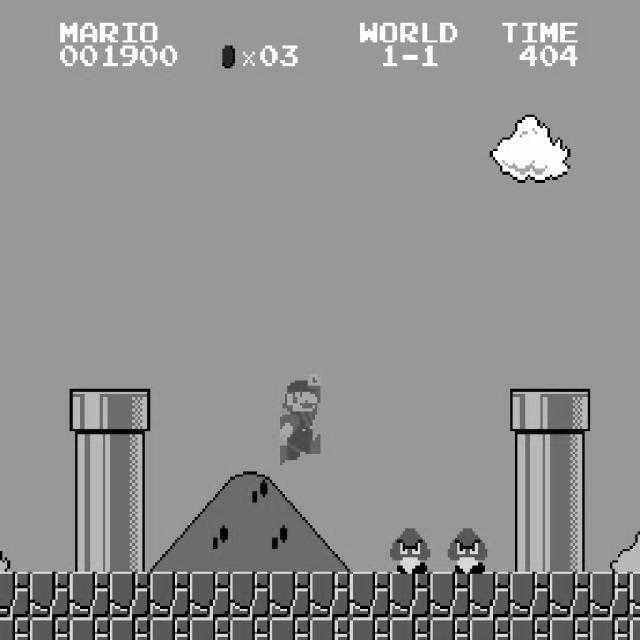0- big_mario: (277, 372, 320, 466)
14- pipe: (70, 434, 110, 480), (70, 480, 110, 526), (70, 526, 110, 572), (110, 434, 150, 480), (110, 480, 150, 526), (110, 526, 150, 572), (510, 434, 550, 480), (510, 480, 550, 526), (510, 526, 550, 572), (550, 434, 590, 480), (550, 480, 590, 526), (550, 526, 590, 572)
15- pipe_head: (70, 388, 110, 434), (110, 388, 150, 434), (510, 388, 550, 434), (550, 388, 590, 434)
17- undestructible_block: (30, 572, 70, 618), (70, 572, 110, 618), (110, 572, 150, 618), (150, 572, 190, 618), (190, 572, 230, 618), (230, 572, 270, 618), (270, 572, 310, 618), (310, 572, 350, 618), (350, 572, 390, 618), (390, 572, 430, 618), (430, 572, 470, 618), (470, 572, 510, 618), (510, 572, 550, 618), (550, 572, 590, 618), (590, 572, 630, 618), (0, 572, 30, 618), (30, 617, 70, 640), (70, 617, 110, 640), (110, 617, 150, 640), (150, 617, 190, 640), (190, 617, 230, 640), (230, 617, 270, 640), (270, 617, 310, 640), (310, 617, 350, 640), (350, 617, 390, 640), (390, 617, 430, 640), (430, 617, 470, 640), (470, 617, 510, 640), (510, 617, 550, 640), (550, 617, 590, 640), (590, 617, 630, 640), (0, 617, 30, 640), (629, 571, 640, 617), (629, 617, 640, 639)
8- goomba: (387, 526, 430, 574), (445, 526, 488, 574)
